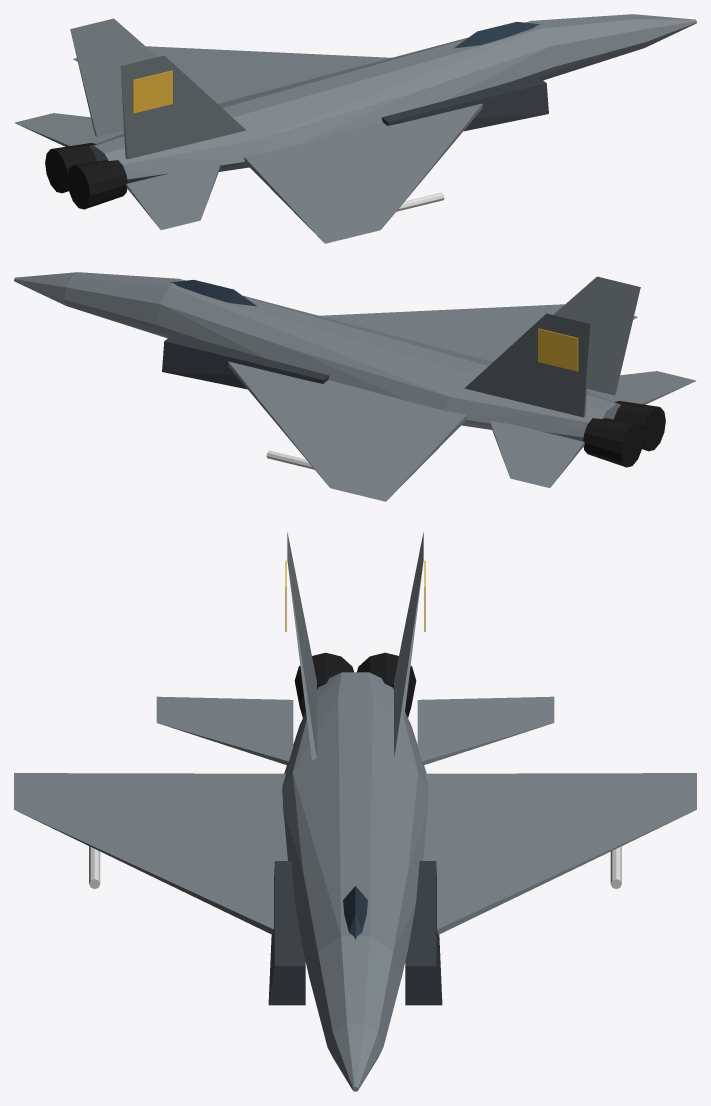
The model's file is jet.glb.
The picture shows the model from 3 angles, top to bottom: view 1: azimuth 30°, elevation 25°; view 2: azimuth 150°, elevation 25°; view 3: azimuth 270°, elevation 25°; orthographic projection. The views are drawn at different scales.
Parts seen in each view (by area): view 1: Jet; view 2: Jet; view 3: Jet.
Part boxes in pixels (bbox=[...]): Jet: bbox=[14, 14, 696, 243]; Jet: bbox=[14, 272, 696, 501]; Jet: bbox=[14, 532, 696, 1091].
Bounding box in the file's own units: 15.8 × 3.5 × 11.
